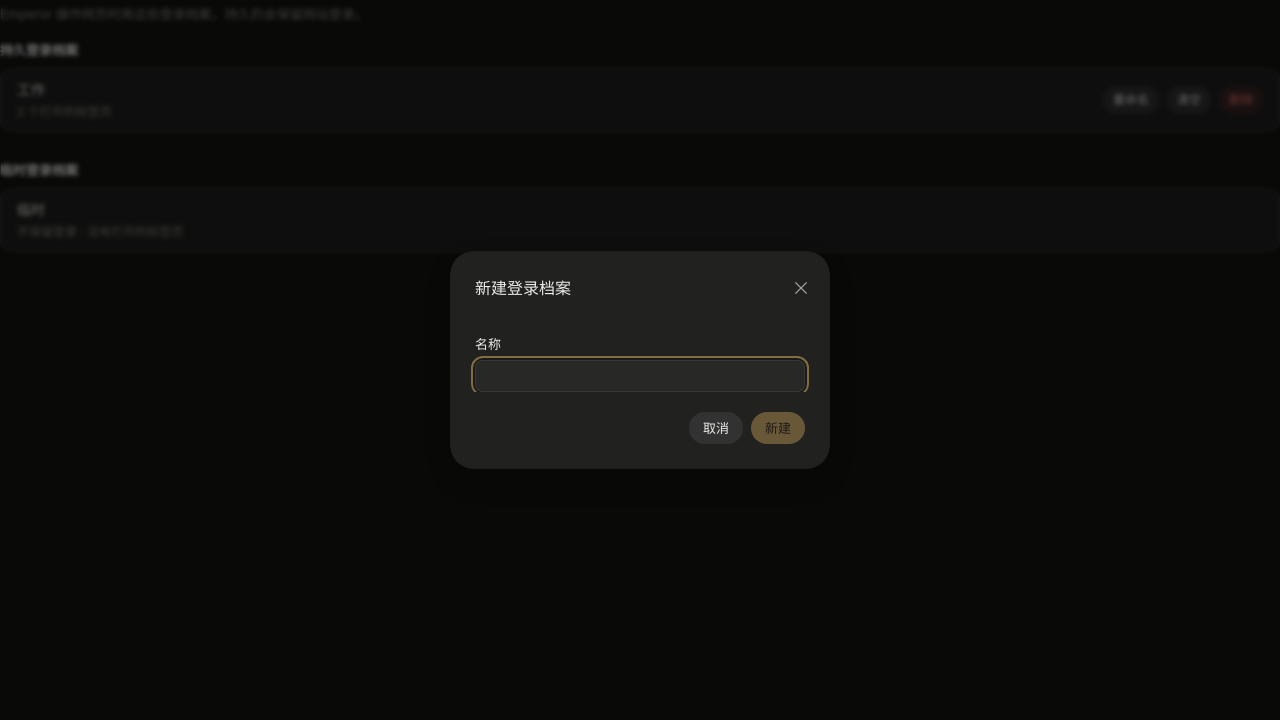
登录状态 › creates a profile from the header, in a dialog
This screenshot has width=1280, height=720.
Type "  购物 " into the field labelled "名称" at (640, 376), box [485,360,795,392]
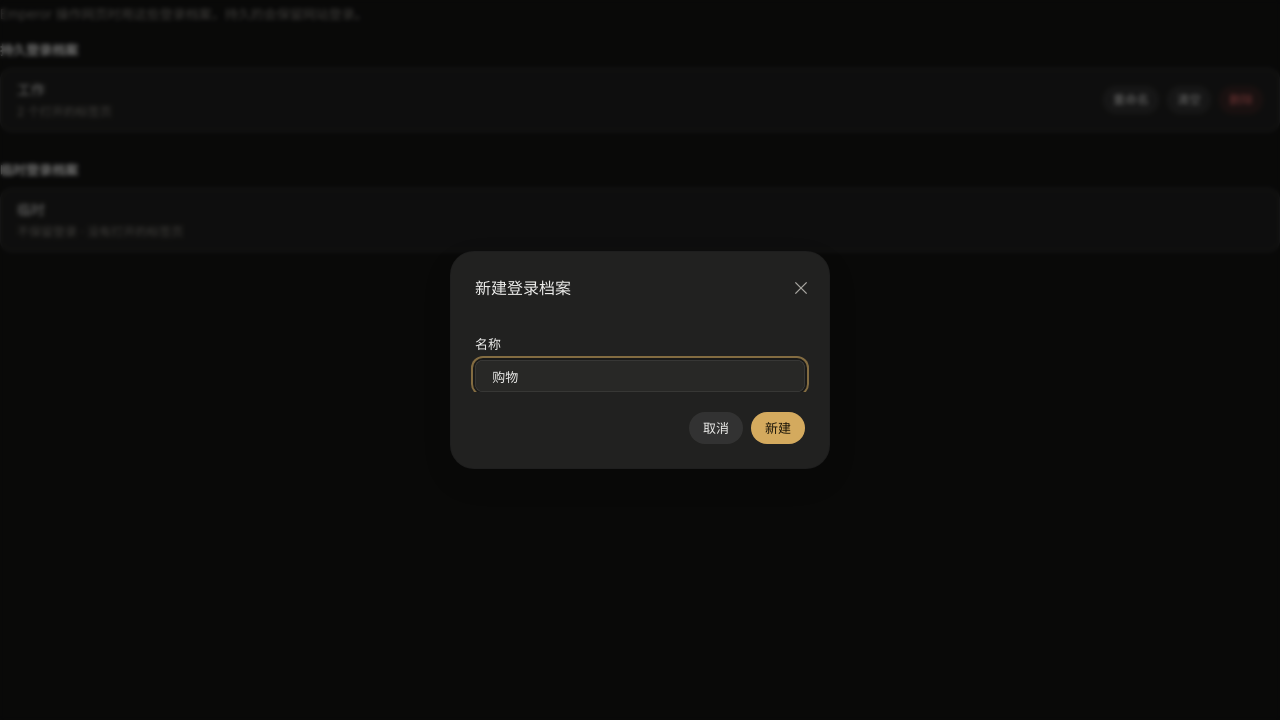
Submit the form, box [475,334,805,392]
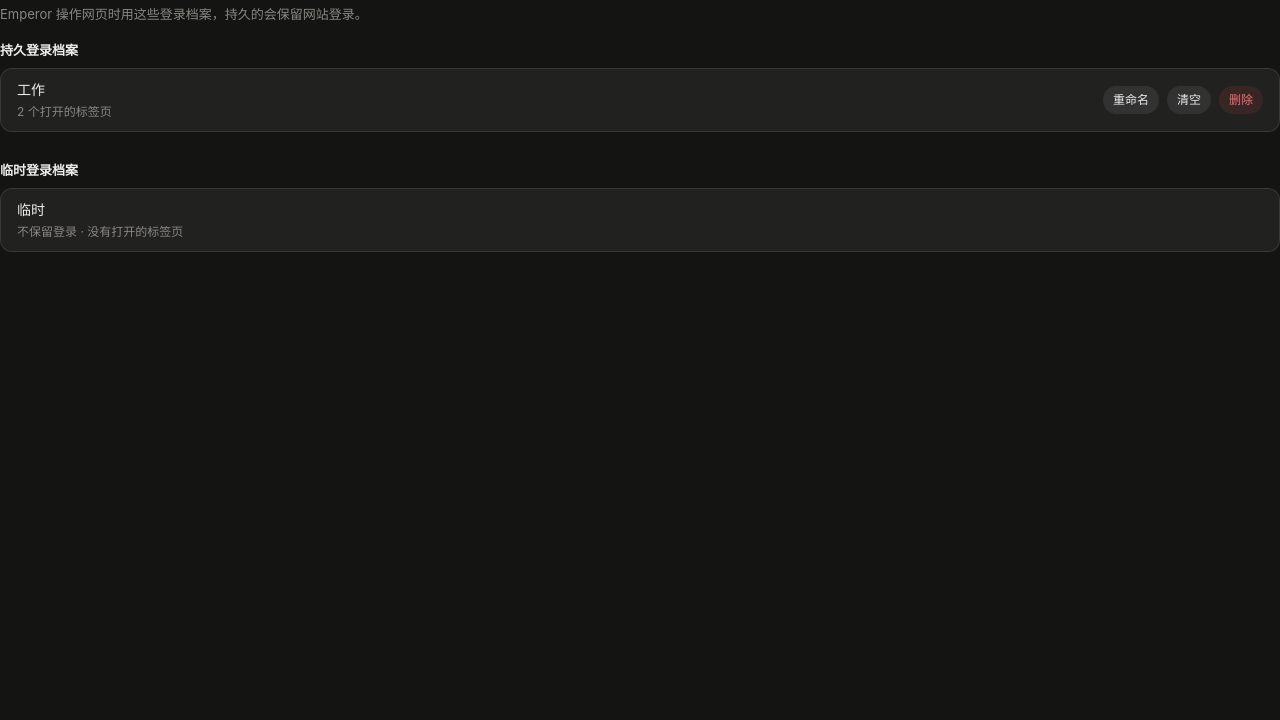
Check: the form is gone
